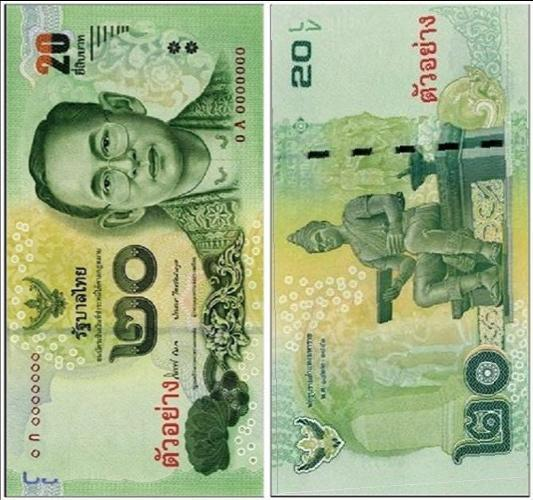20BahtTai: (271, 7, 528, 495)
